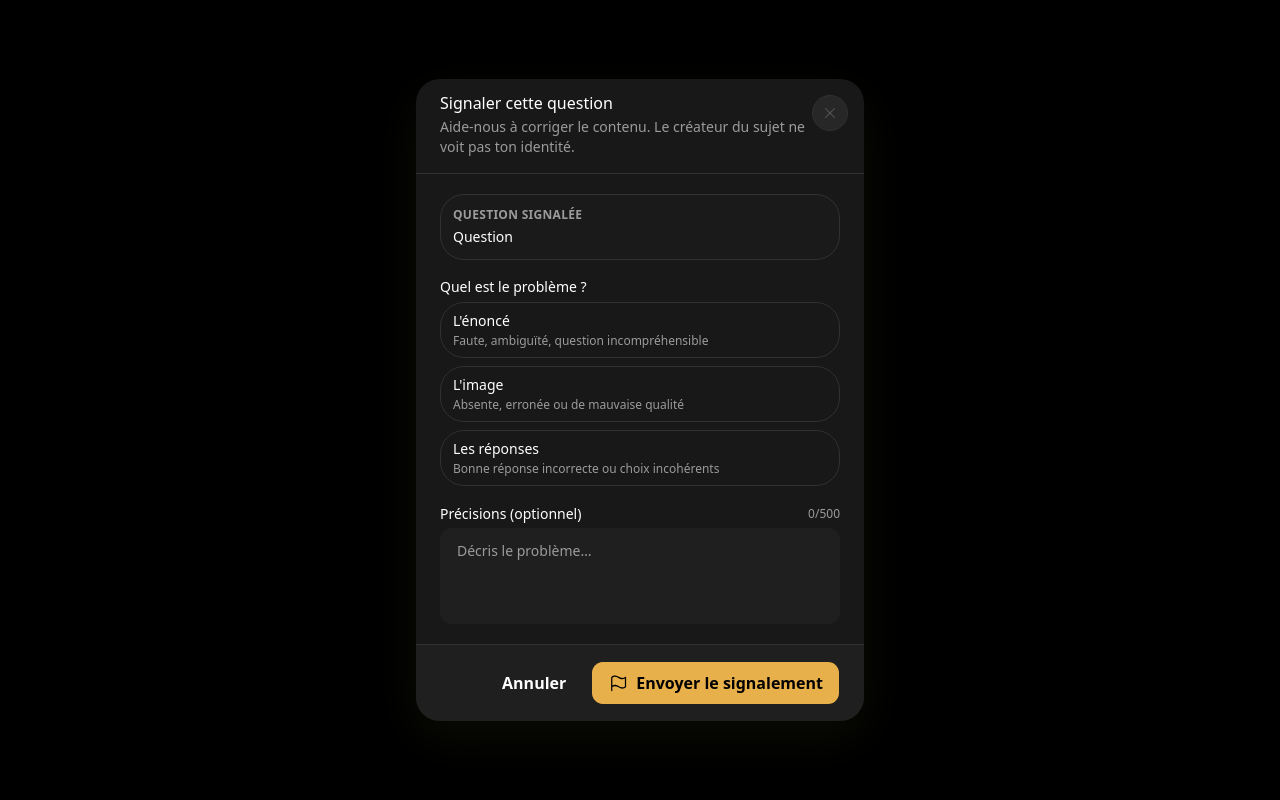
Test case: ReportQuestionDialog › refuse un signalement sans motif
Click the button "Envoyer le signalement" at point(716, 683), box [591, 661, 840, 705]
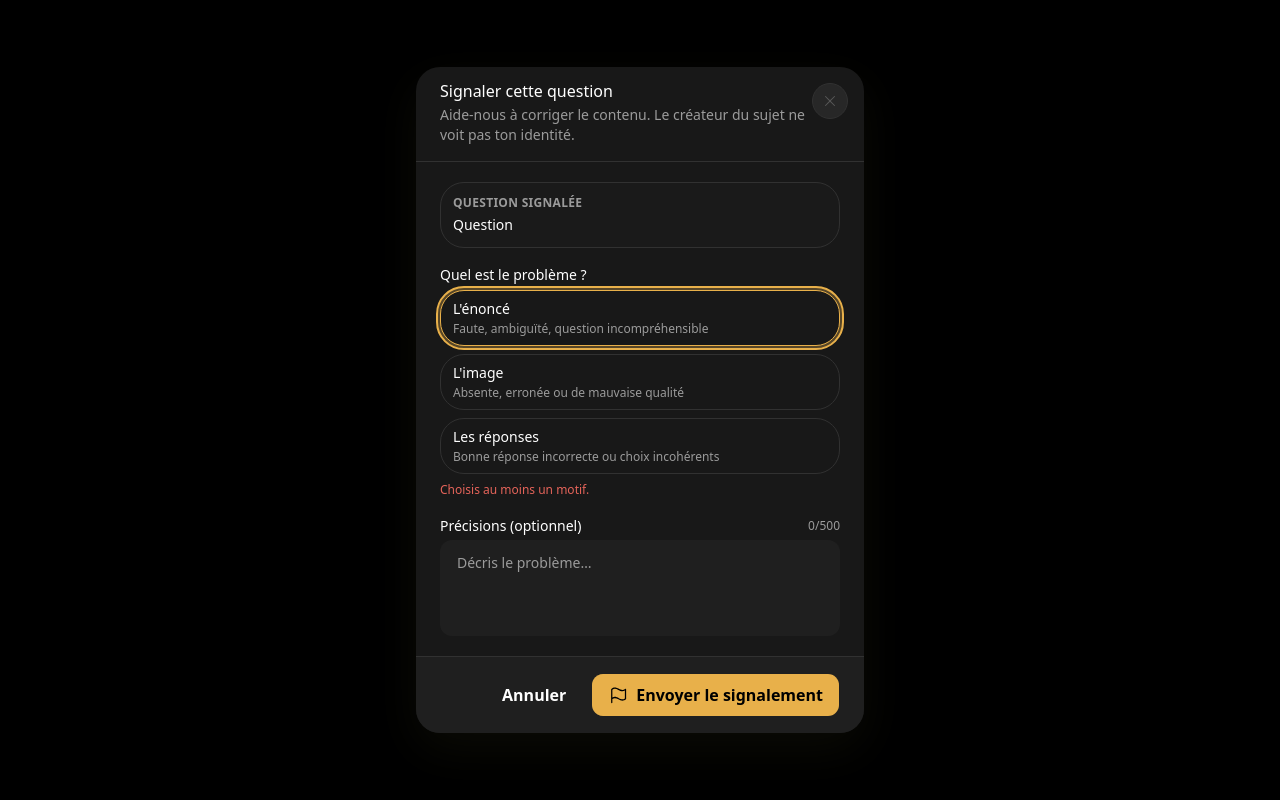
Expected: the text "Choisis au moins un motif." is shown, [440, 481, 589, 498]
